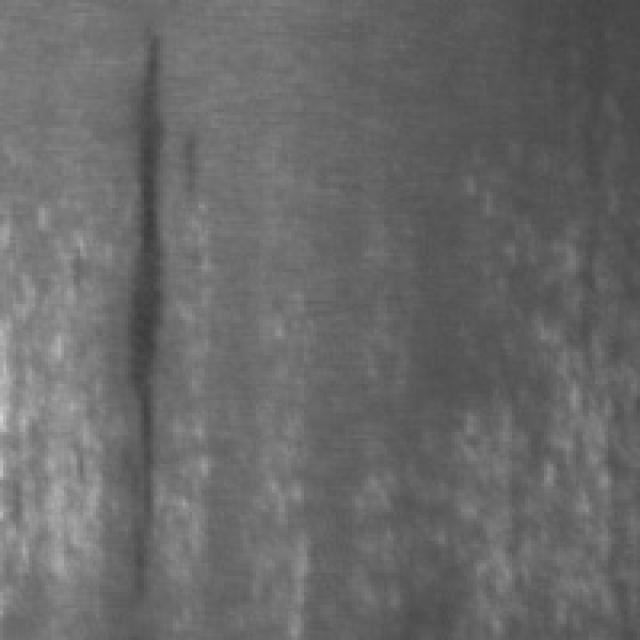inclusion: (102, 26, 196, 604)
